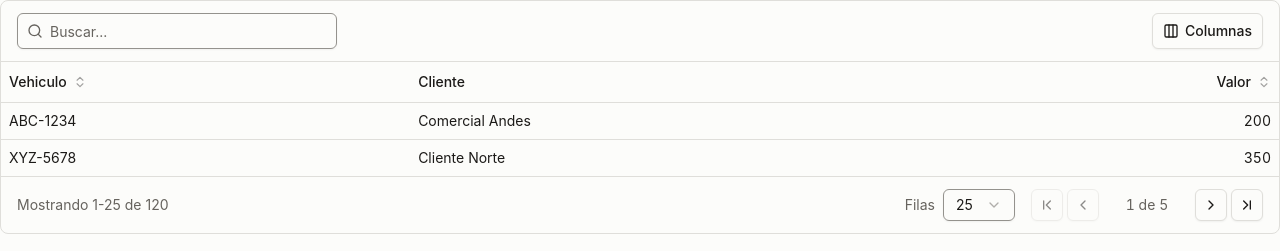
Scenario: AppDataTable › se puede ocultar una columna, pero no la que identifica la fila
Click the button "Columnas": (1208, 31) [1152,13,1263,49]
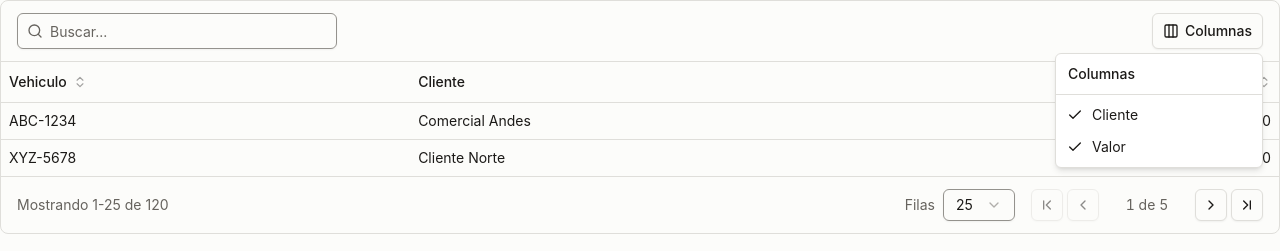
Now the menu item "Cliente" is shown
Click the menu item "Cliente": (1102, 114) [1067,106,1138,123]
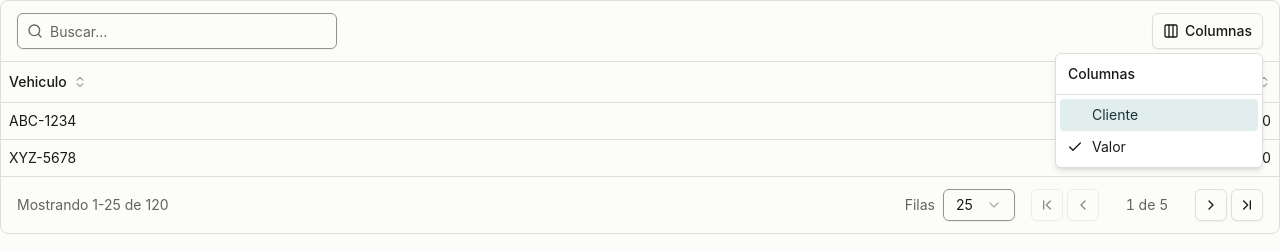
Expected: the text "ABC-1234" is shown, [1,102,731,139]
Now the text "Comercial Andes" is gone
